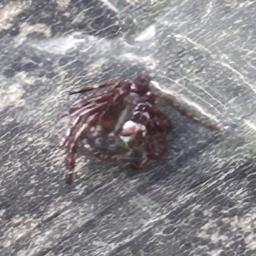Dermacentor variabilis: (58, 74, 221, 189)
